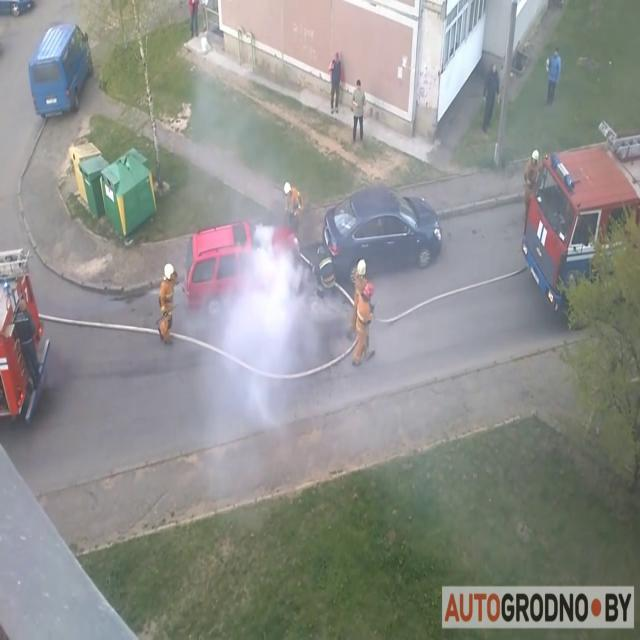Smoke: (185, 29, 318, 514)
